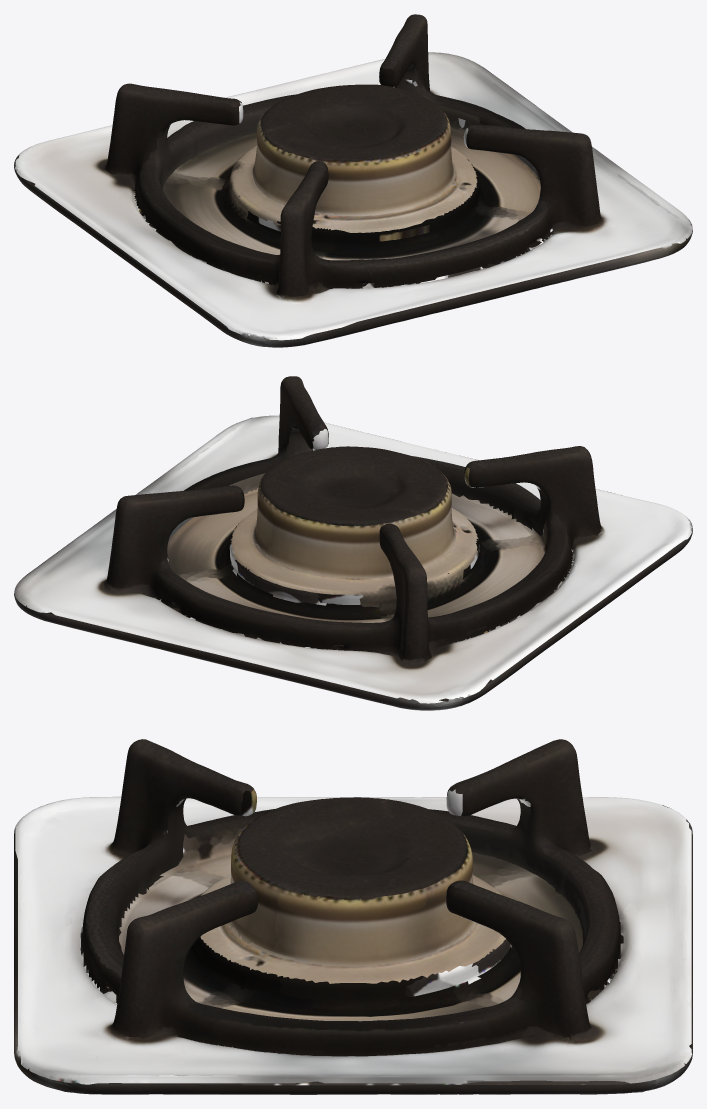
The picture shows the model from 3 angles, top to bottom: view 1: azimuth 30°, elevation 25°; view 2: azimuth 150°, elevation 25°; view 3: azimuth 270°, elevation 25°; orthographic projection. The views are drawn at different scales.
Parts seen in each view (by area): view 1: tmpiyb_sqm3.ply; view 2: tmpiyb_sqm3.ply; view 3: tmpiyb_sqm3.ply.
Part boxes in pixels (<box>): tmpiyb_sqm3.ply: <box>14,14,692,347</box>; tmpiyb_sqm3.ply: <box>14,376,692,710</box>; tmpiyb_sqm3.ply: <box>14,739,692,1094</box>.
Size of the model in its own units: 196 by 40.27 by 196.
Materials: 1 (1 with a texture image).
